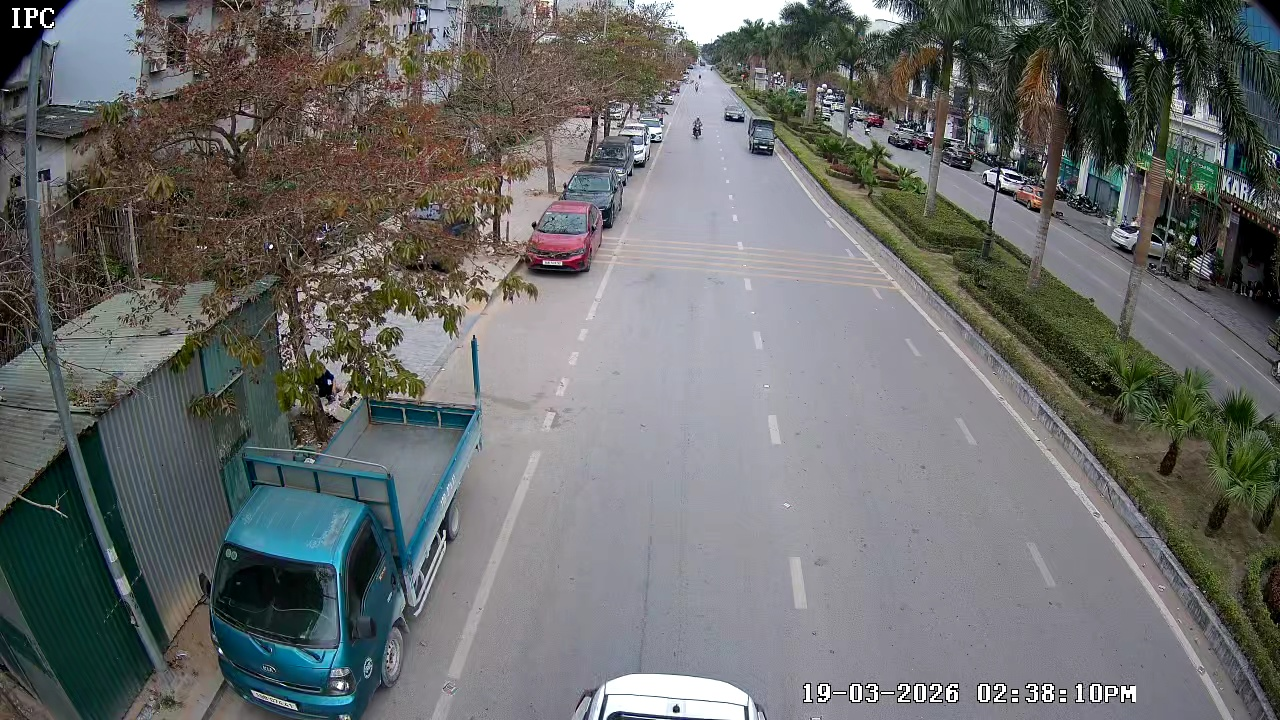car: (524, 199, 601, 276), (561, 168, 622, 227), (744, 116, 777, 156)
motorbike: (690, 115, 708, 142)
